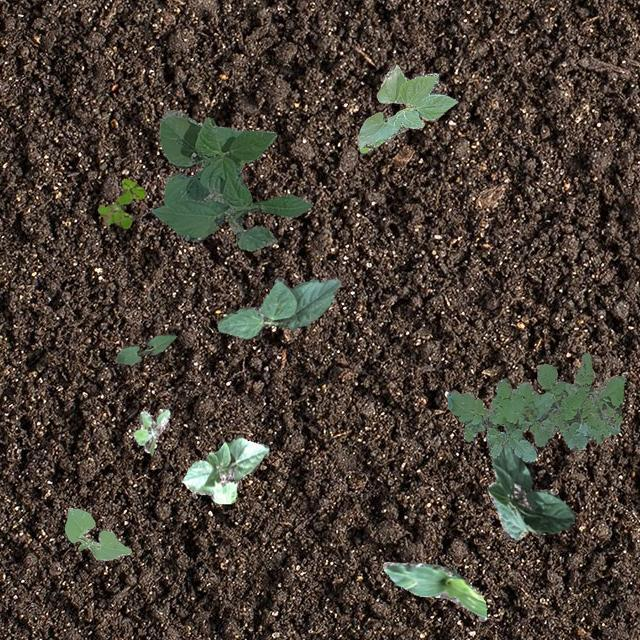crop: (150, 108, 312, 250), (486, 430, 574, 540), (356, 64, 456, 152), (216, 276, 340, 338), (382, 560, 486, 620), (180, 436, 268, 502), (64, 506, 130, 560), (114, 332, 176, 363)
weed: (446, 352, 624, 462), (96, 178, 144, 226), (132, 408, 168, 454)
